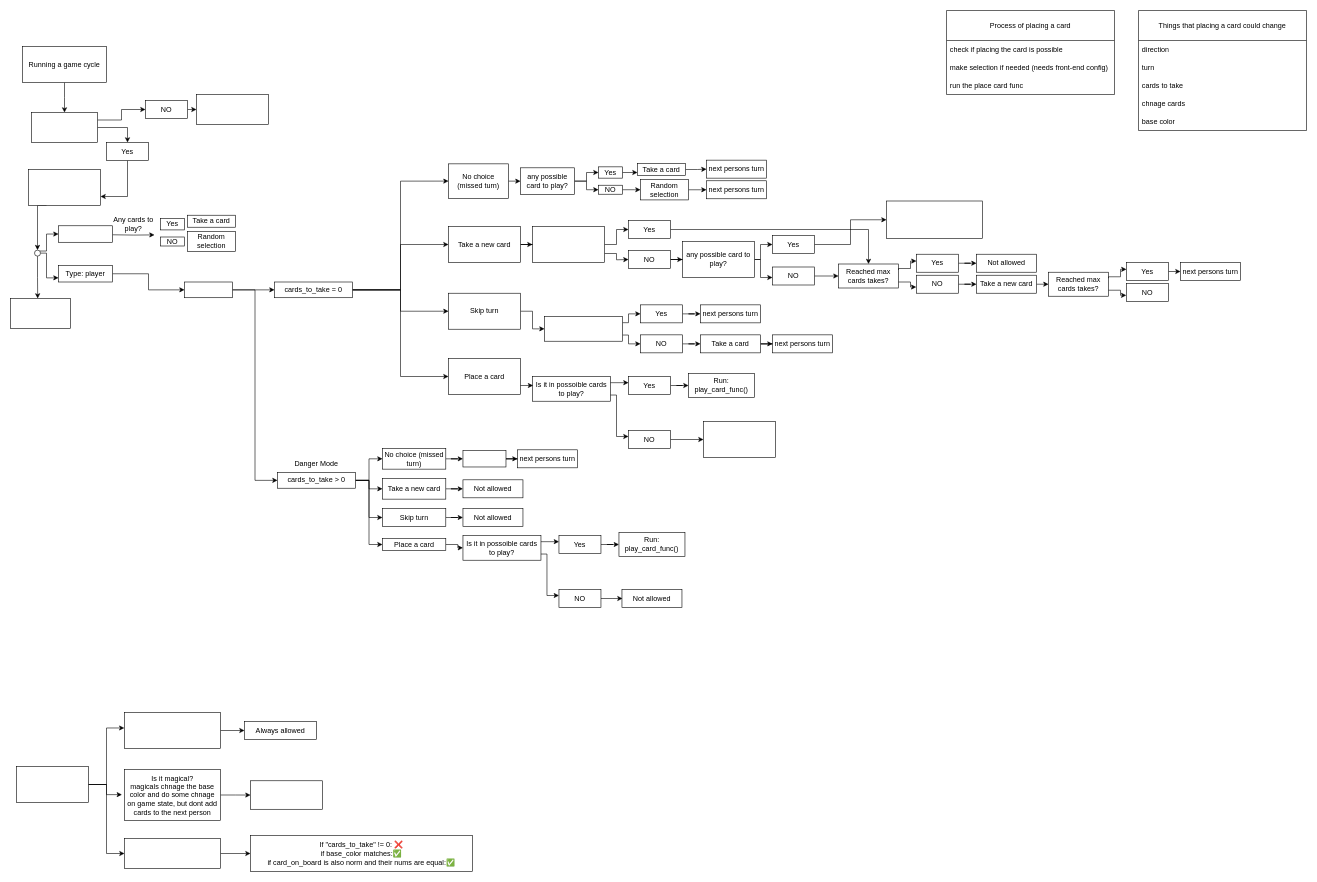
Image size: 1317x882. Some labels were removed from this diagram. Each missing label, with the centre of its shape:
Action not allowed: pls wait for your turn: pixel 232 109
Allowed only if "cards_to_take" equals 0: pixel 286 794
allowed to skip move?: pixel 568 244
Calc all possble cards to plsy: pixel 64 187
emit game to all frontends (If successfull): pixel 40 313
Error: Card not allowed to be played: pixel 739 439
Is Card allowed to be played?: pixel 52 784
is it +1, +2, +4 or any card that makes the next person take cards?: pixel 172 730
Is it norm card? just a number and a color: pixel 172 853
Is it their turn to play?: pixel 64 127
Not allowed to take a new card: You have cards in your deck allowed to play: pixel 934 219
Player choice:: pixel 208 289
Take cards: pixel 484 458
Took atleast one card?: pixel 583 328
Type: BOT: pixel 85 233
